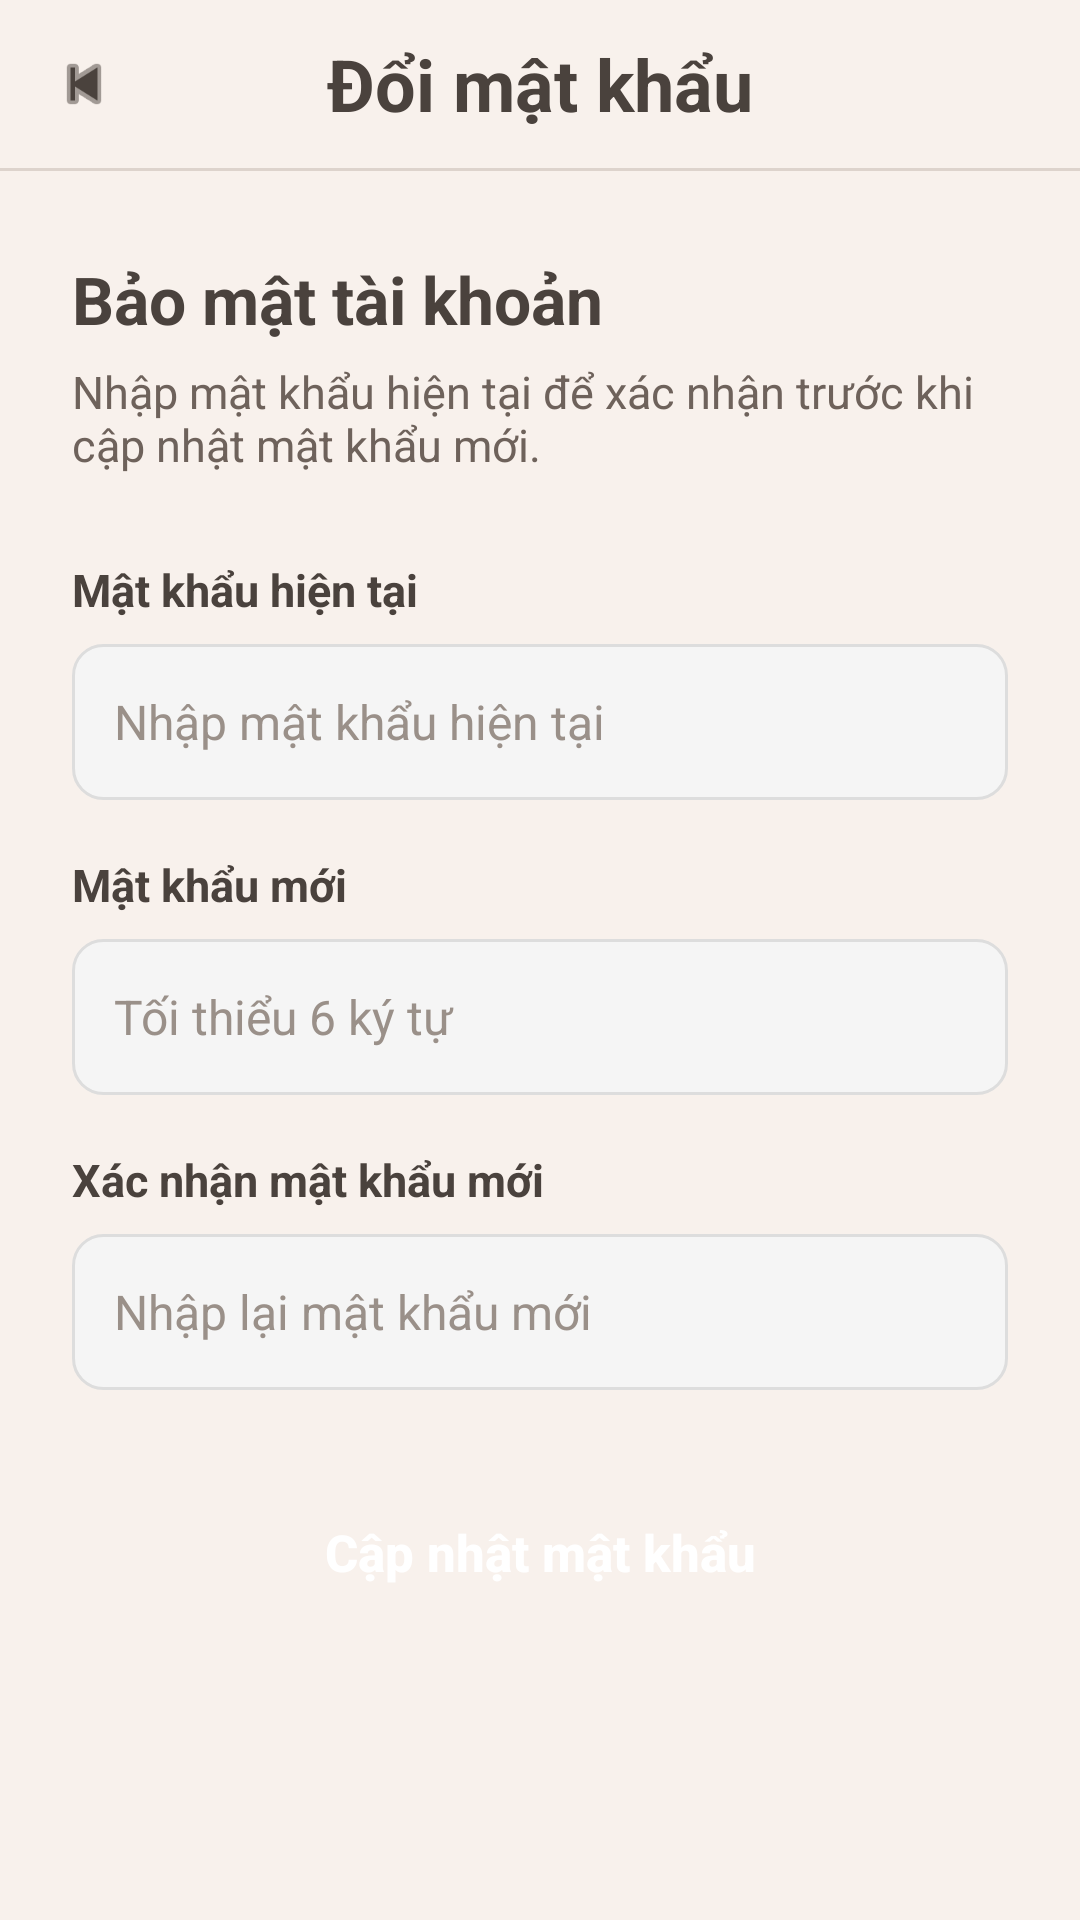

Where icons sit on this 1080px x 1920px app screen, as [x1=x1, y1=y1, x2=x2, y2=y2]:
Quay lại: [x1=67, y1=64, x2=101, y2=104]
